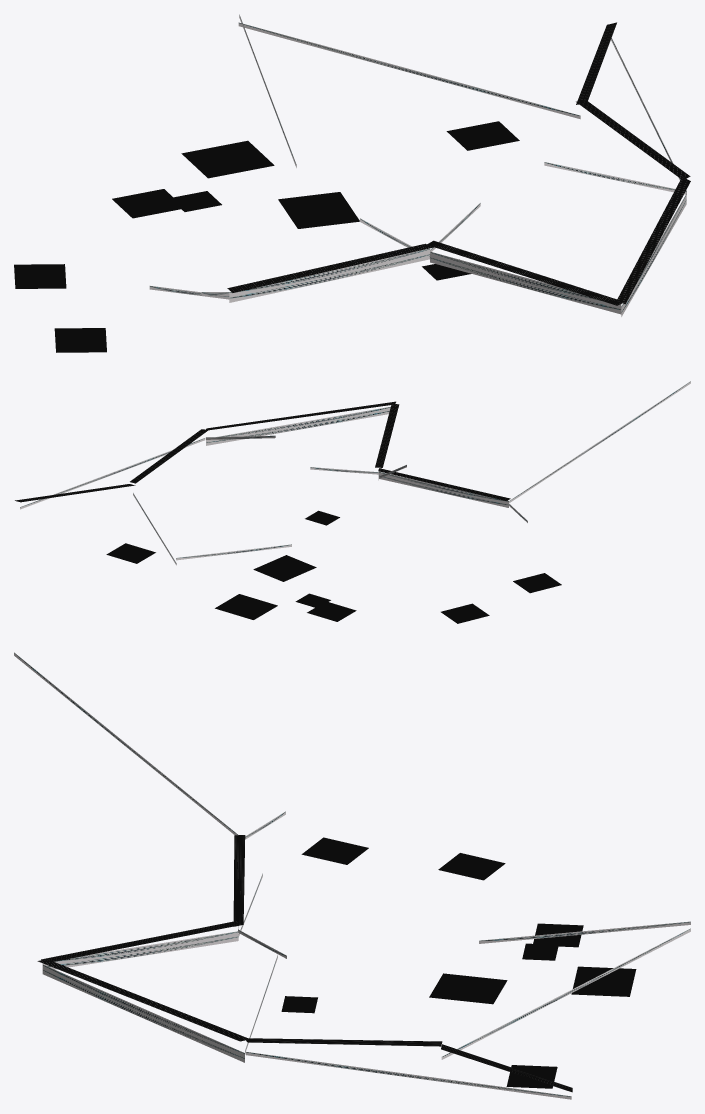
Rendered from snpedteew8_las06.obj.
3 views of the same model, one above another, from view 1: azimuth 30°, elevation 25°; view 2: azimuth 150°, elevation 25°; view 3: azimuth 270°, elevation 25° (orthographic). The views are drawn at different scales.
Visible parts, largest first — view 1: snpedteew8_las06; view 2: snpedteew8_las06; view 3: snpedteew8_las06.
Boxes of the visible parts, x1=… form: snpedteew8_las06: x1=14, y1=14, x2=690, y2=352; snpedteew8_las06: x1=15, y1=381, x2=690, y2=623; snpedteew8_las06: x1=14, y1=652, x2=690, y2=1099.
Bounding box in the file's own units: 137 × 34.85 × 123.
